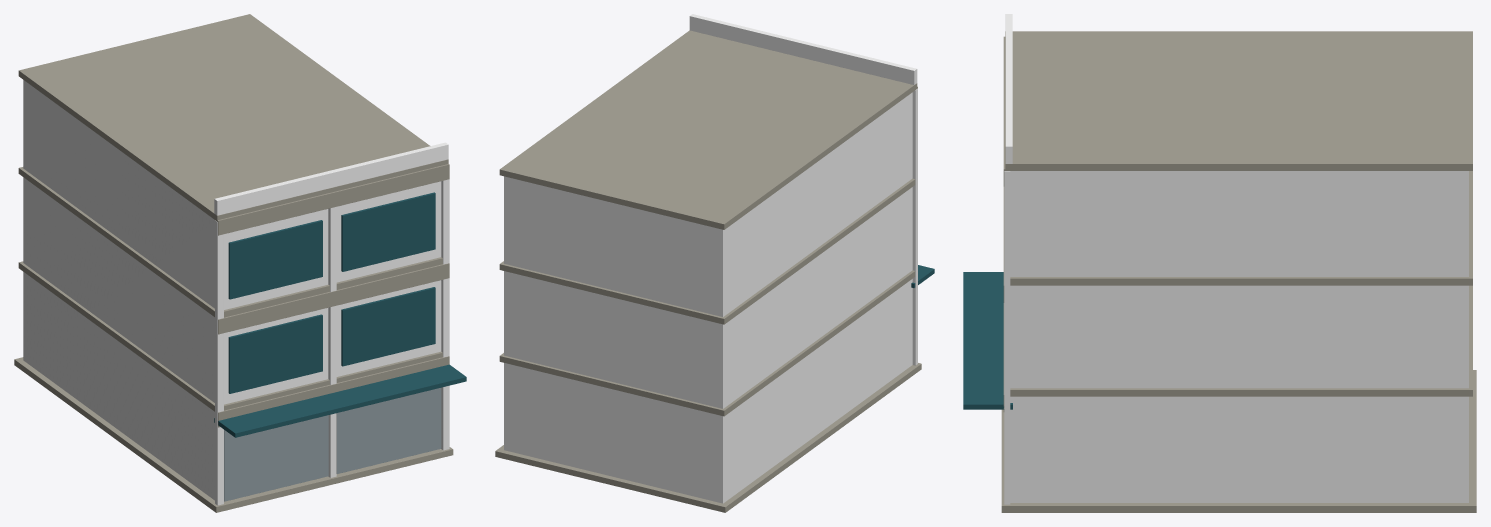
File: shoplot.glb
3 renders of one model, left to right at view 1: azimuth 30°, elevation 25°; view 2: azimuth 150°, elevation 25°; view 3: azimuth 270°, elevation 25°, orthographic. The views are drawn at different scales.
Parts seen in each view (by area): view 1: shoplot; view 2: shoplot; view 3: shoplot.
Part boxes in pixels (x1=…): shoplot: x1=14, y1=14, x2=466, y2=512; shoplot: x1=495, y1=14, x2=934, y2=512; shoplot: x1=963, y1=14, x2=1476, y2=512.
Bounding box in the file's own units: 8.4 × 10.5 × 13.4.
